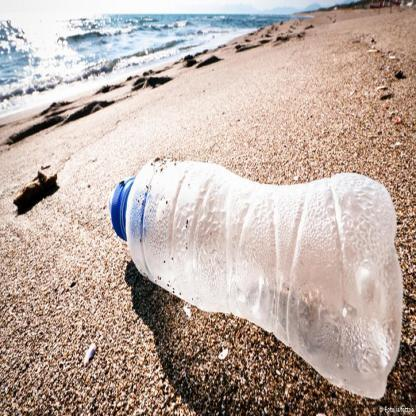bottle: (96, 148, 410, 408)
